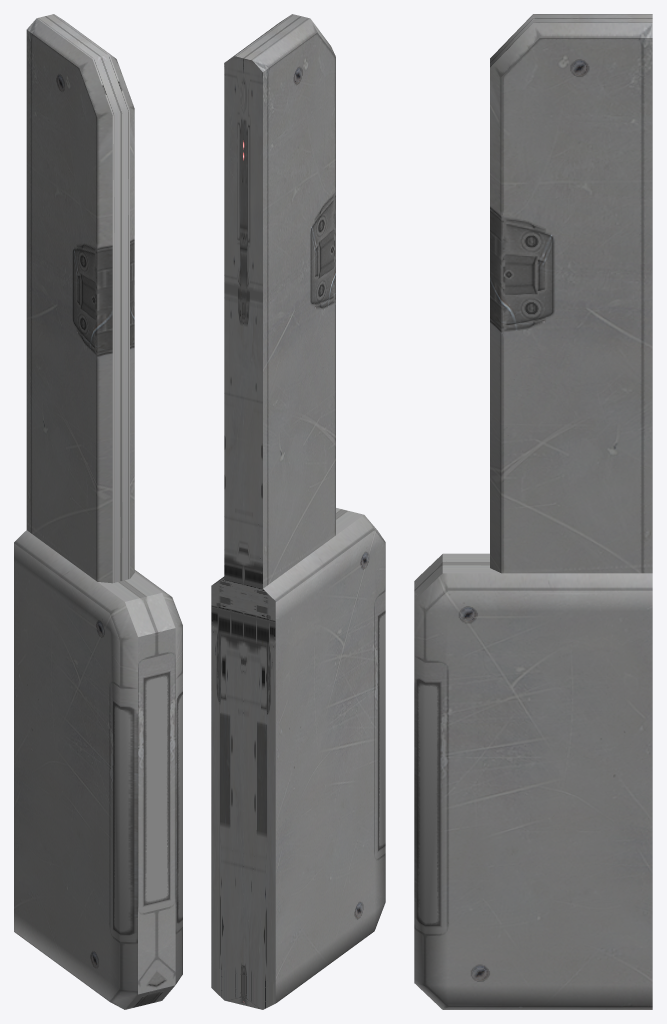
The model's file is SM_SPillarS04b.fbx.
3 renders of one model, left to right at view 1: azimuth 30°, elevation 25°; view 2: azimuth 150°, elevation 25°; view 3: azimuth 270°, elevation 25°, orthographic. The views are drawn at different scales.
Visible parts, largest first — view 1: SM_SPillarS04b_LOD0; view 2: SM_SPillarS04b_LOD0; view 3: SM_SPillarS04b_LOD0.
Part boxes in pixels (<box>): SM_SPillarS04b_LOD0: <box>14,14,182,1009</box>; SM_SPillarS04b_LOD0: <box>211,14,385,1009</box>; SM_SPillarS04b_LOD0: <box>414,14,652,1009</box>.
Bounding box in the file's own units: 25 × 77.43 × 351.
1 material, 1 textured.
